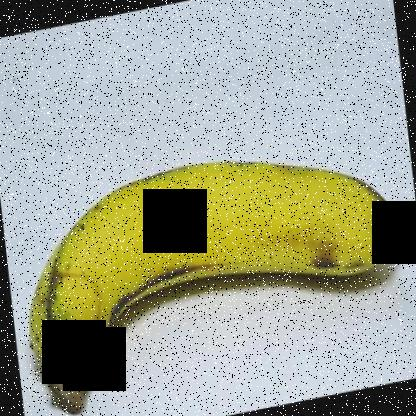freshripe: (20, 142, 415, 415)
